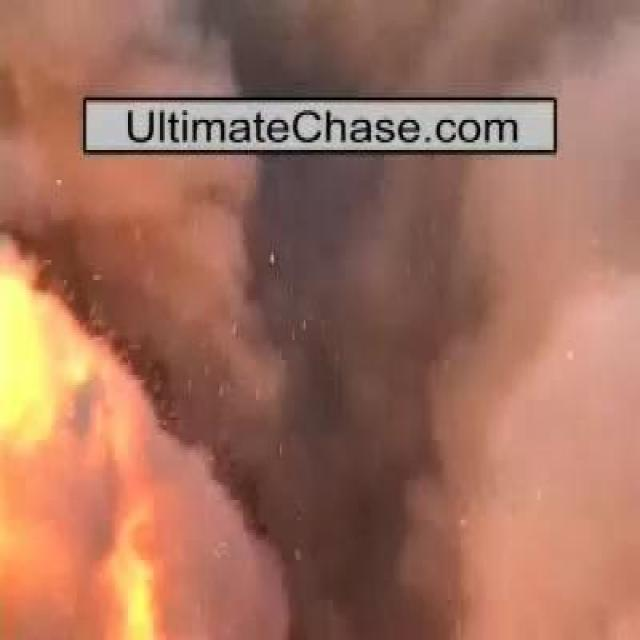Smoke: (62, 158, 589, 578)
